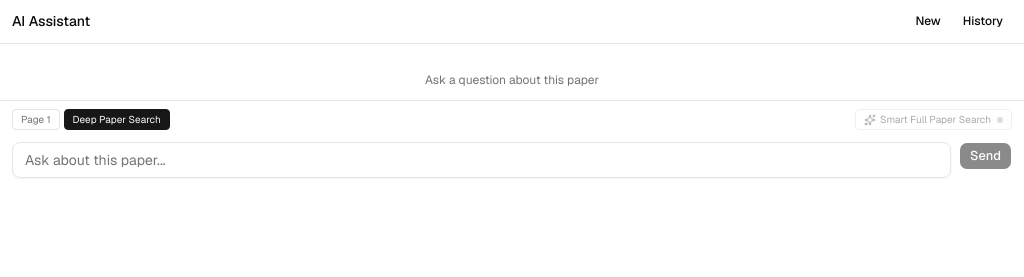
ChatPanel /highlight slash command › shows hint message when /highlight has no instruction (no fetch)
Type "/highlight" into the field with placeholder "Ask about this paper..." at (482, 160), box [12,142,951,178]
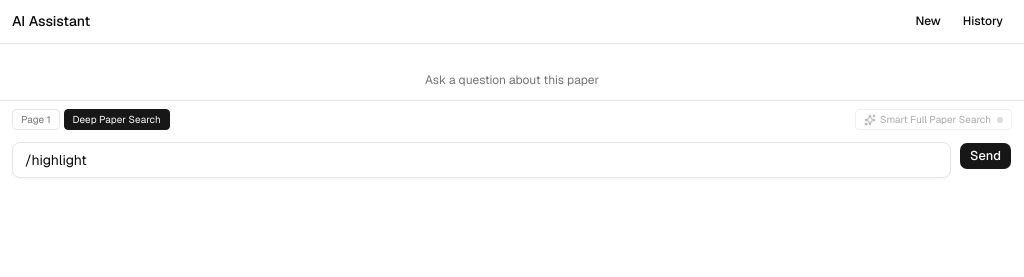
Submit the form with placeholder "ask about this paper", box [0,130,1023,190]
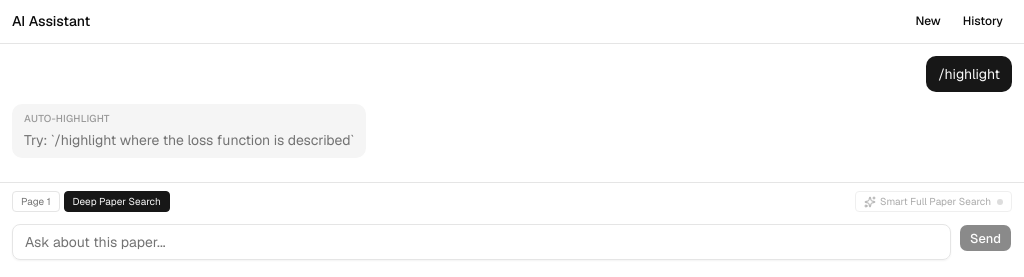
Now the text "Try: `/highlight where the loss function is described`" is shown, box [24,130,354,150]
